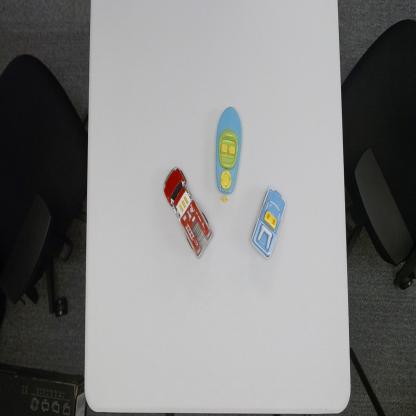Boat: (214, 104, 244, 206)
Car: (249, 184, 287, 262)
Firetruck: (163, 164, 213, 260)
